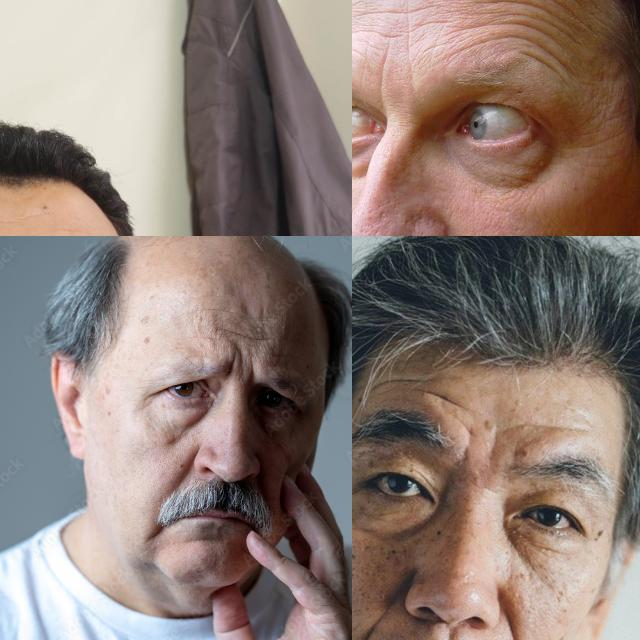forehead: (489, 24, 545, 58), (488, 0, 557, 21), (522, 413, 576, 439), (352, 21, 402, 49), (525, 49, 571, 77), (357, 2, 418, 22), (418, 386, 470, 408), (424, 12, 456, 46), (369, 369, 417, 391), (224, 324, 266, 348), (0, 211, 26, 228)
frown_line: (368, 60, 390, 96), (224, 352, 244, 378)
gummy_smile: (365, 585, 399, 640), (500, 599, 529, 640)
sad_smile: (146, 521, 164, 545)
